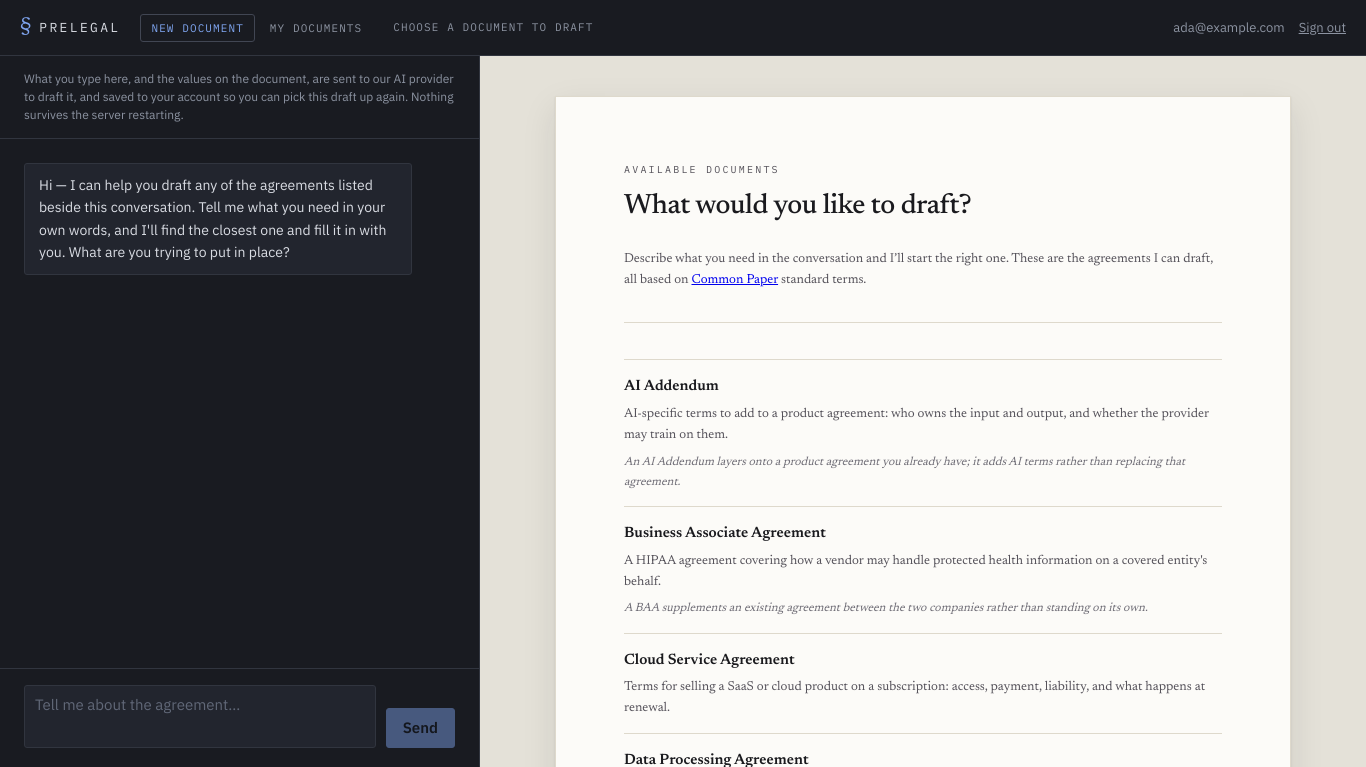
Test: DocumentWorkspace › the Mutual NDA keeps its own page › rewrites the purpose everywhere it appears
The image size is (1366, 767).
Step 1. Type "I need an NDA." into the text box named "Your message" → (200,716), box [24,685,376,748]
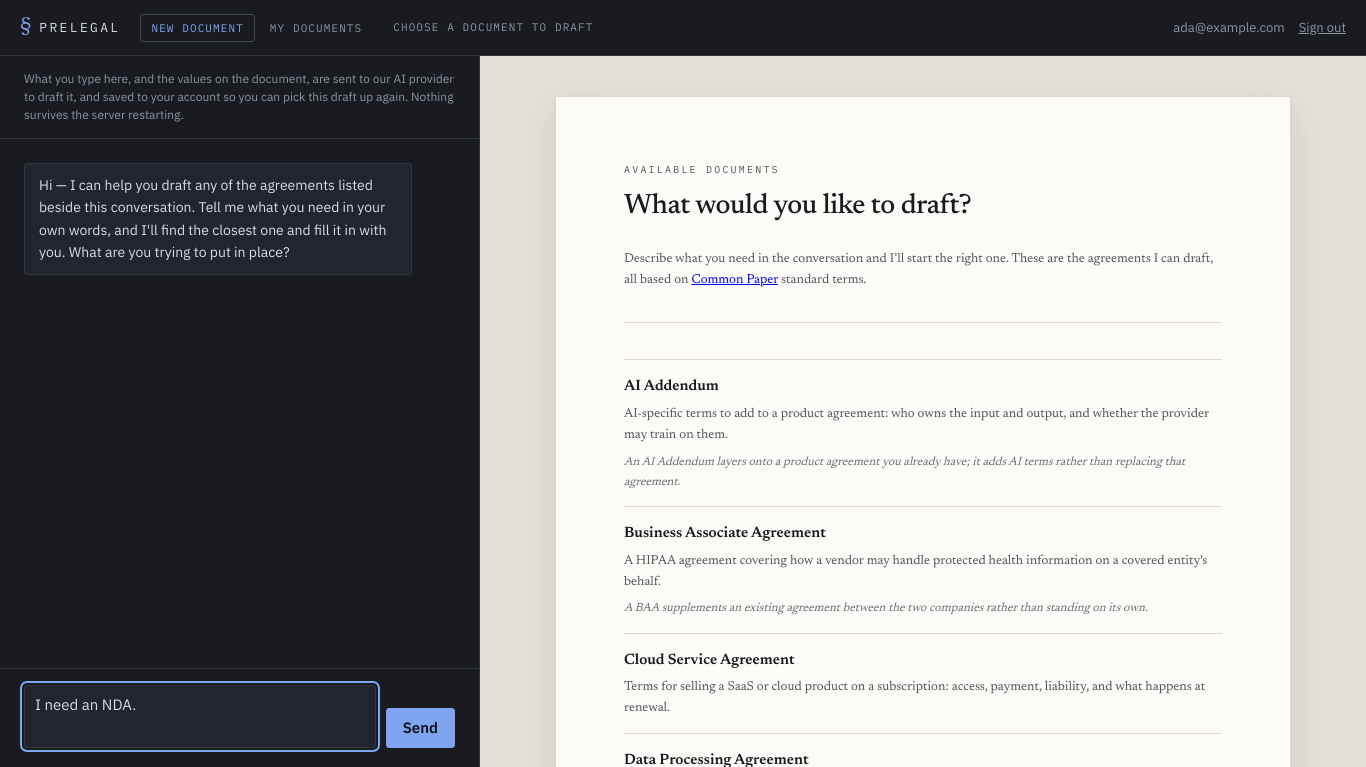
Step 2. Click the button "Send" → (420,728), box [386,708,455,748]
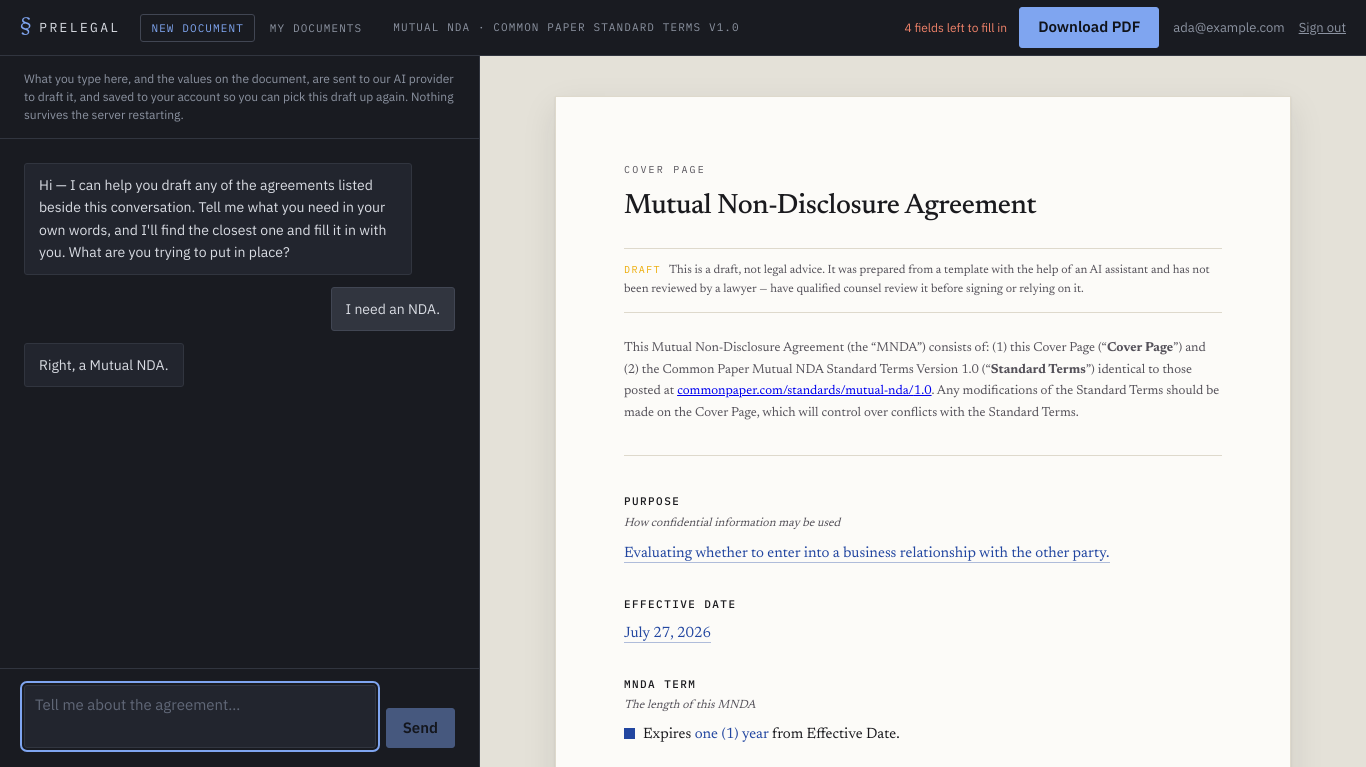
Expected: the text "Right, a Mutual NDA." is shown, [24,343,184,387]
Step 3. Type "It's about an acquisition." into the text box named "Your message" → (200,716), box [24,685,376,748]
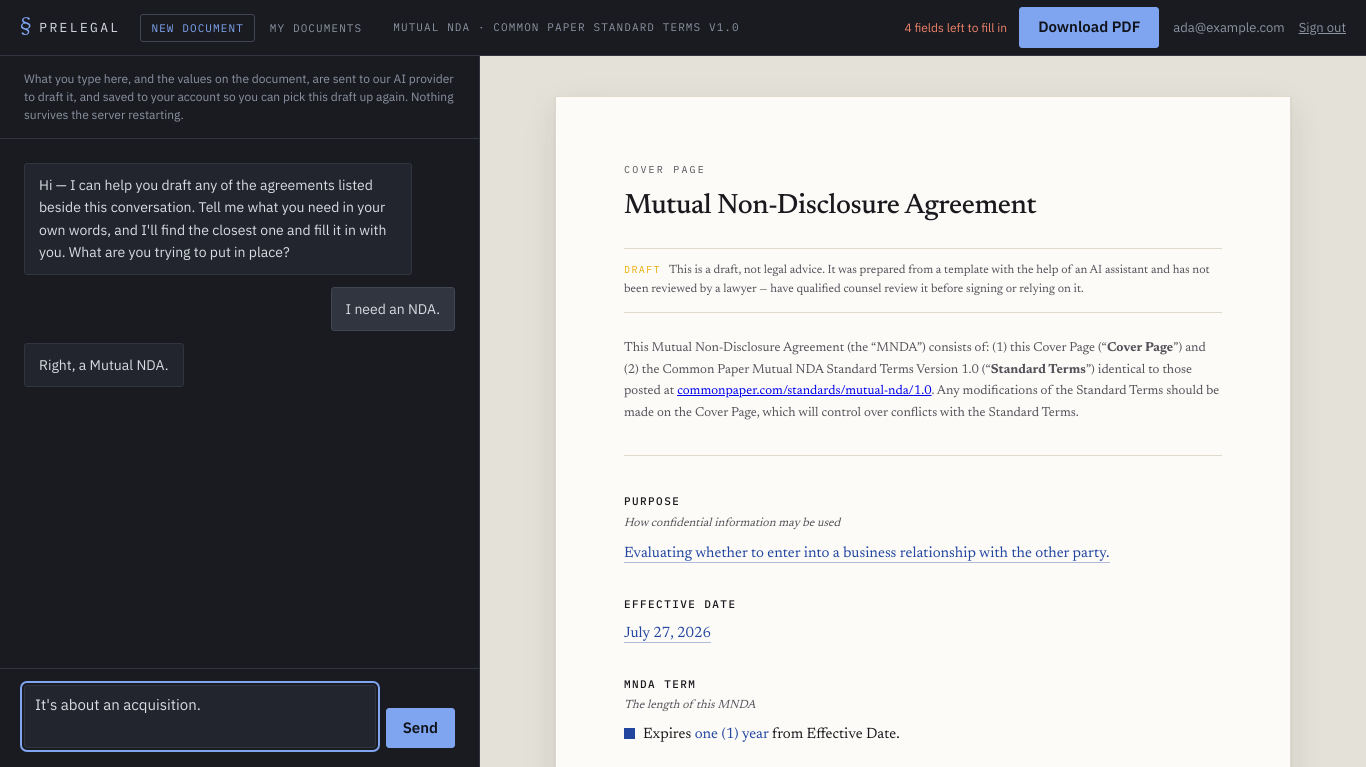
Step 4. Click the button "Send" → (420,728), box [386,708,455,748]
(page scrolled)
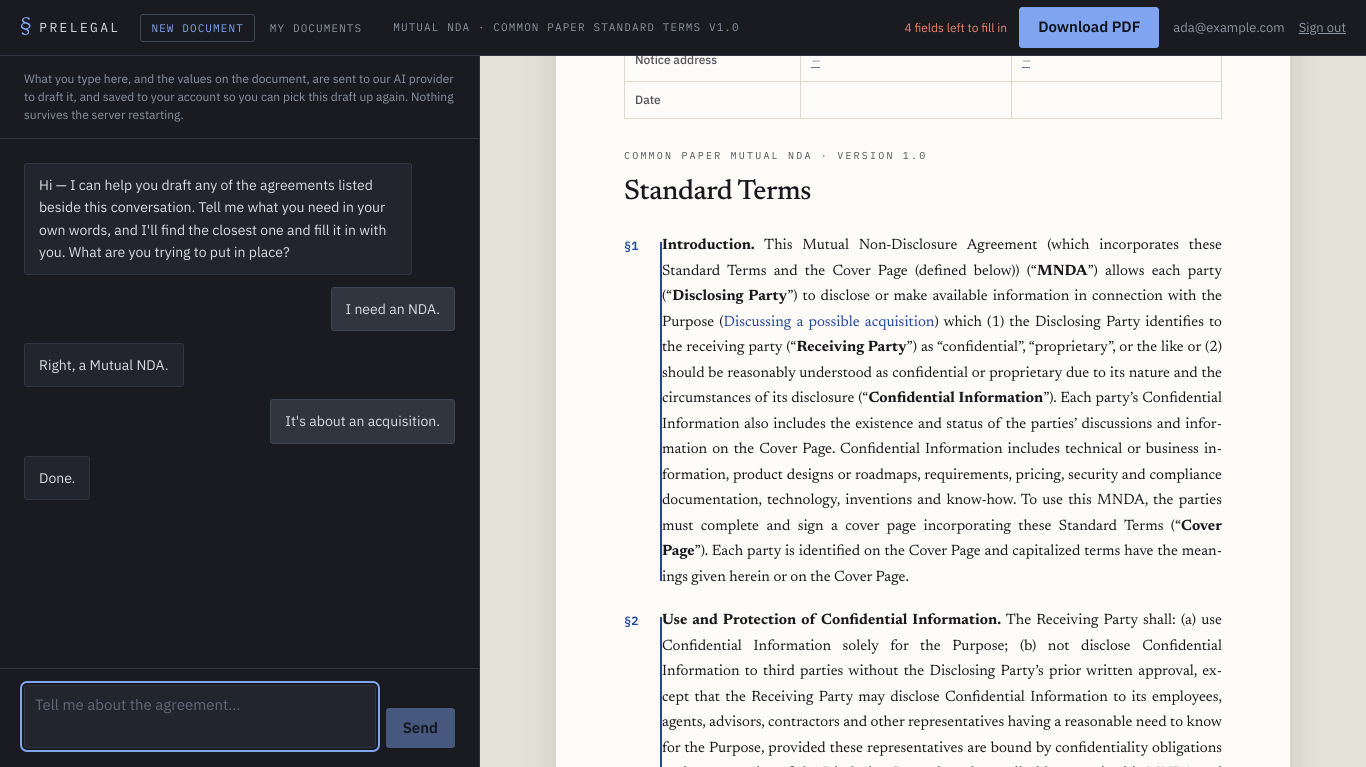
Expected: the list item with class "clause" shows "the Purpose (Discussing a possible acquisition)", [624,234,1222,590]
